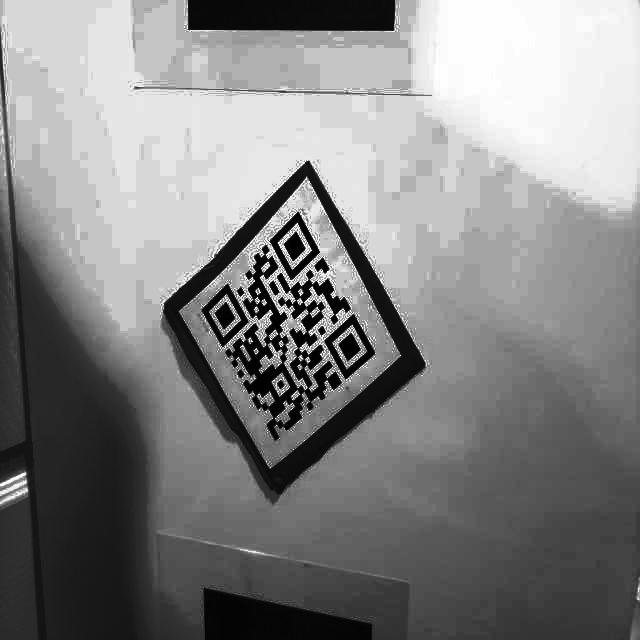qr_code: (190, 205, 385, 451)
